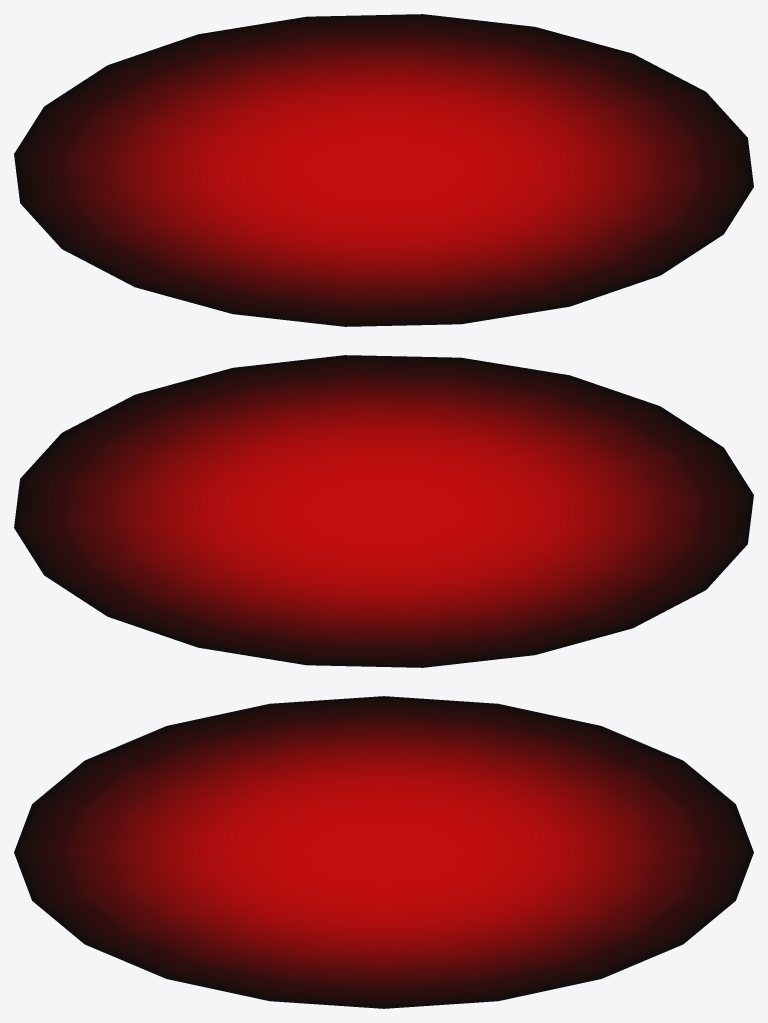
Rendered from SM_Pulsing.fbx.
The picture shows the model from 3 angles, top to bottom: view 1: azimuth 30°, elevation 25°; view 2: azimuth 150°, elevation 25°; view 3: azimuth 270°, elevation 25°; orthographic projection.
Visible parts, largest first — view 1: SM_Pulsing; view 2: SM_Pulsing; view 3: SM_Pulsing.
Boxes of the visible parts, x1=… form: SM_Pulsing: x1=14, y1=14, x2=753, y2=326; SM_Pulsing: x1=14, y1=355, x2=753, y2=667; SM_Pulsing: x1=14, y1=696, x2=753, y2=1008.
Bounding box in the file's own units: 300 × 0 × 300.
